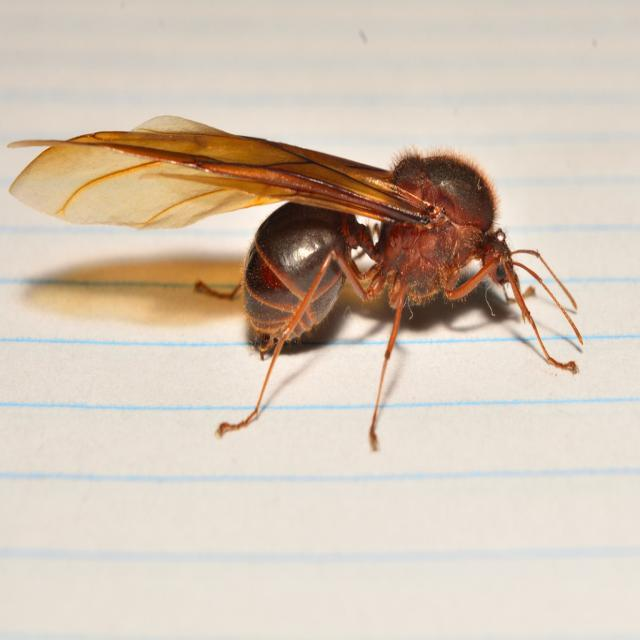Alive-Male-Alate: (7, 114, 583, 454)
